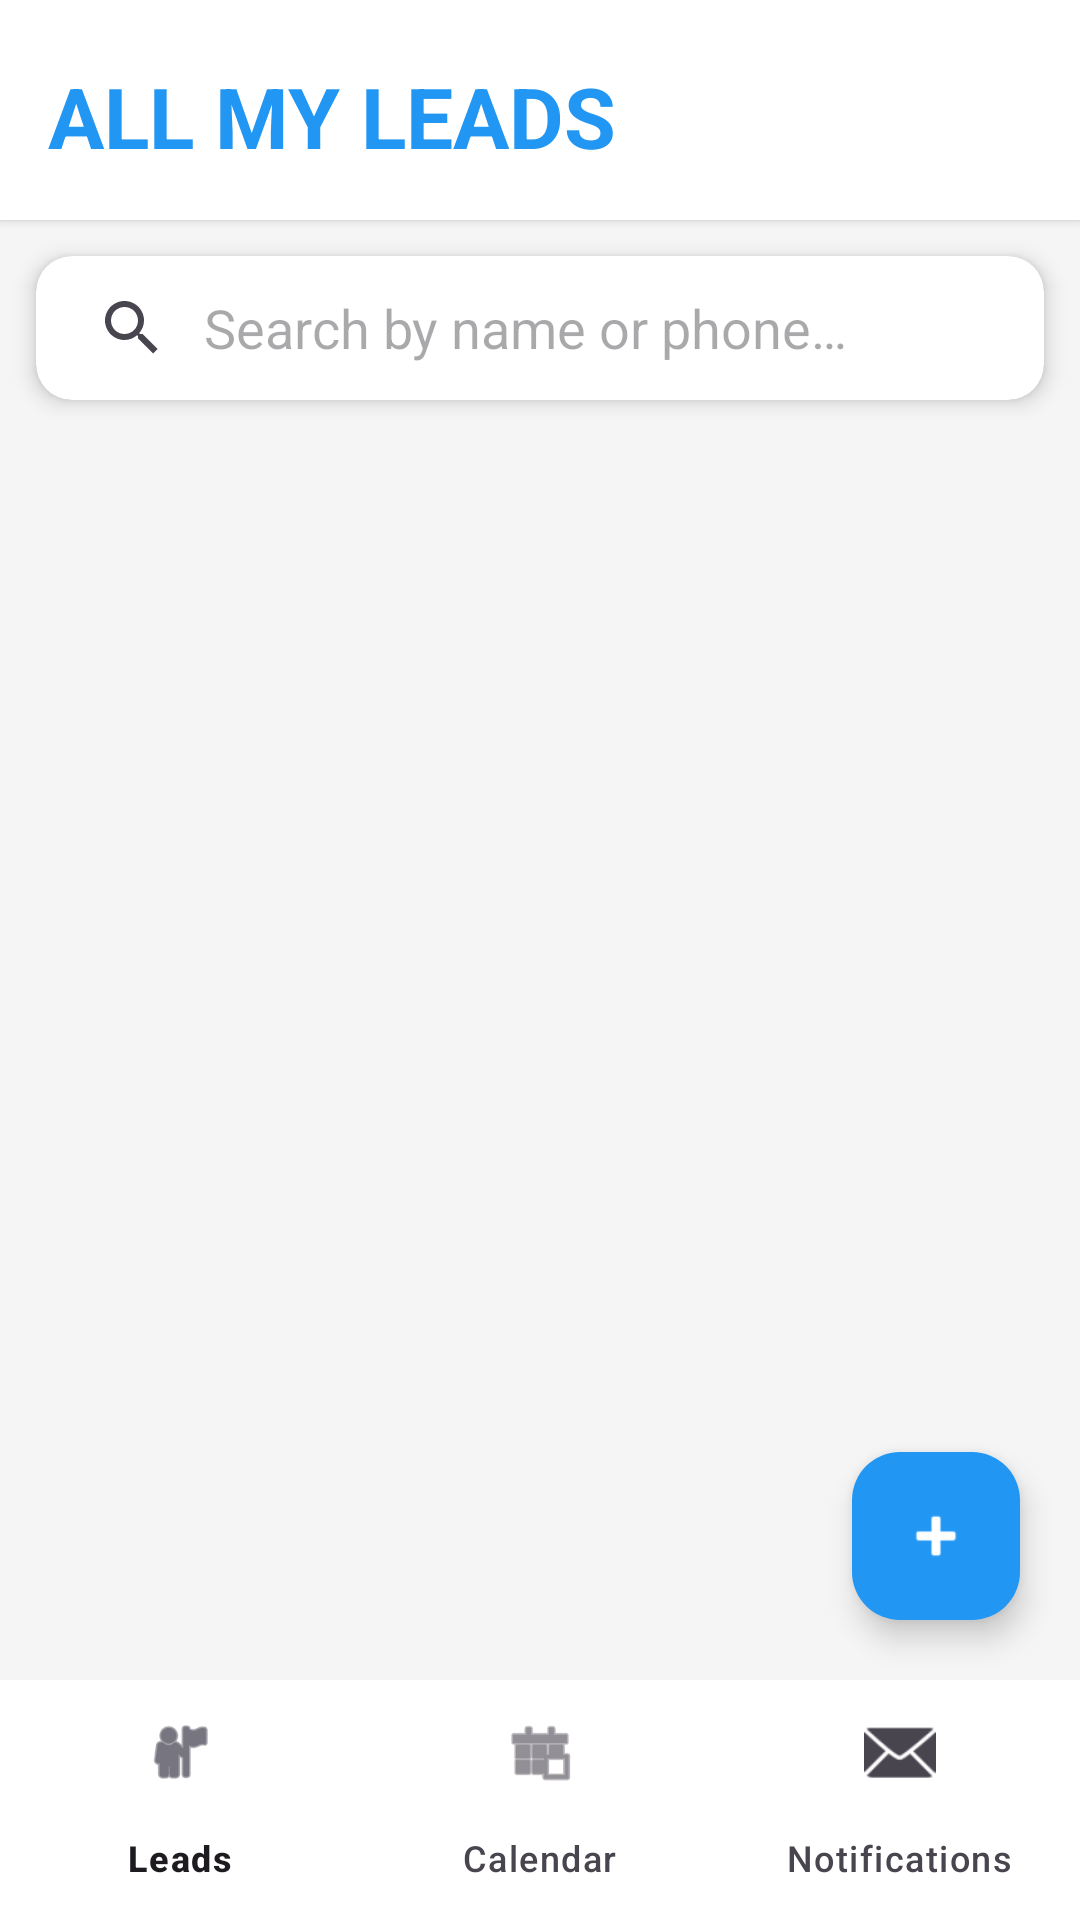

Icons on this 1080 × 1920 Android screen, each with its box as {"x1": x1, "y1": y1, "x2": x2, "y2": y2}:
Add Lead: {"x1": 852, "y1": 1452, "x2": 1020, "y2": 1620}
